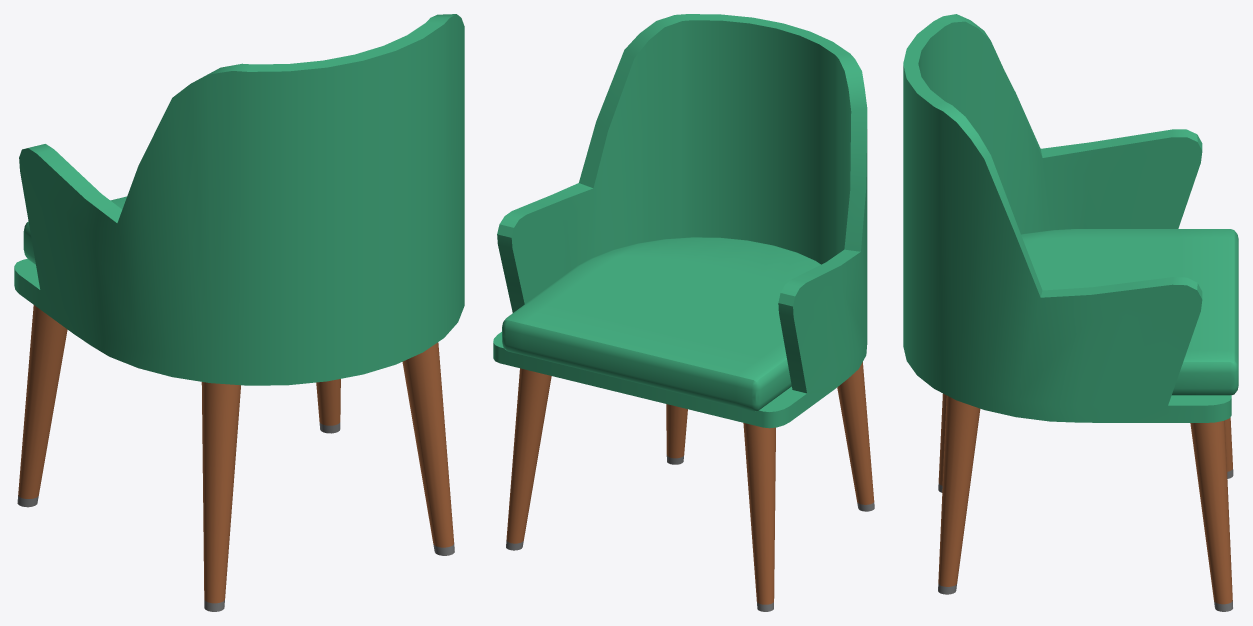
File: Chair_Single_06.glb
3 renders of one model, left to right at view 1: azimuth 30°, elevation 25°; view 2: azimuth 150°, elevation 25°; view 3: azimuth 270°, elevation 25°, orthographic. The views are drawn at different scales.
Visible parts, largest first — view 1: Mesh_Chair_Single_06; view 2: Mesh_Chair_Single_06; view 3: Mesh_Chair_Single_06.
Part boxes in pixels (box(x1,y1,x2,y2)): Mesh_Chair_Single_06: box(14, 14, 464, 611); Mesh_Chair_Single_06: box(493, 14, 874, 611); Mesh_Chair_Single_06: box(903, 14, 1238, 611).
Bounding box in the file's own units: 0.5061 × 0.7263 × 0.4597.
Materials: 1 (1 with a texture image).
